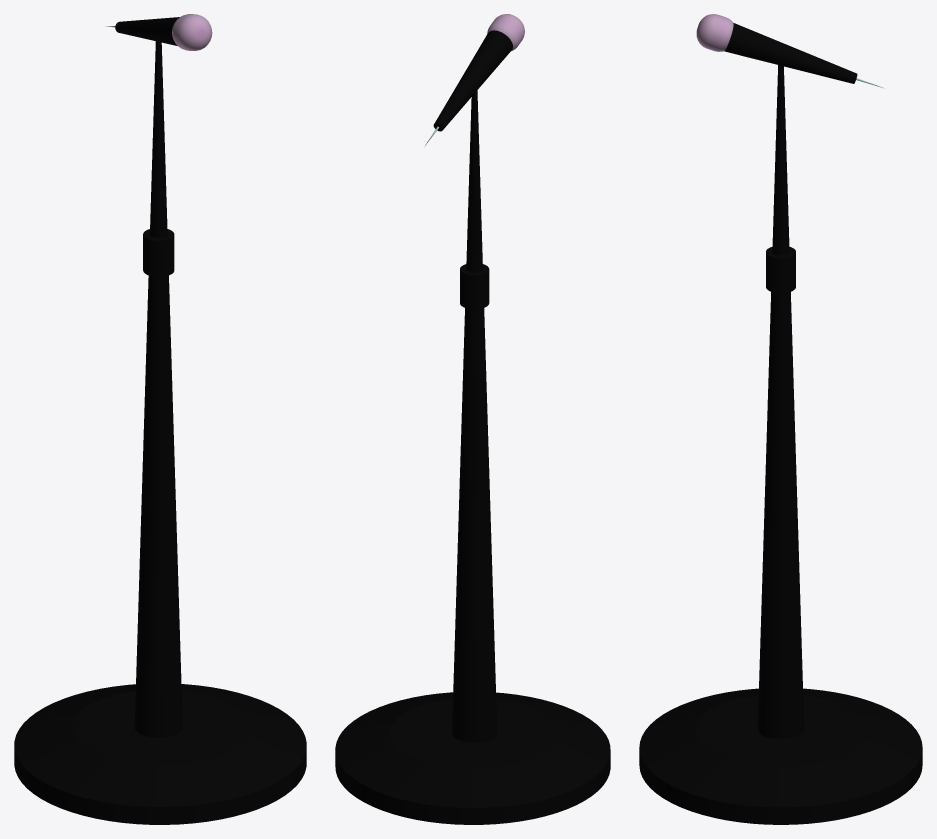
The picture shows the model from 3 angles, left to right: view 1: azimuth 30°, elevation 25°; view 2: azimuth 150°, elevation 25°; view 3: azimuth 270°, elevation 25°; orthographic projection. The views are drawn at different scales.
Parts seen in each view (by area): view 1: base, shaft, head, body; view 2: base, shaft, body, head; view 3: base, shaft, body, head.
Boxes of the visible parts, bbox=[...] form: base: bbox=[14, 684, 306, 824]; shaft: bbox=[134, 41, 182, 737]; head: bbox=[172, 14, 212, 50]; body: bbox=[115, 17, 179, 45]; base: bbox=[335, 692, 610, 824]; shaft: bbox=[452, 90, 497, 742]; body: bbox=[433, 30, 512, 131]; head: bbox=[487, 14, 524, 51]; base: bbox=[639, 688, 922, 824]; shaft: bbox=[757, 65, 804, 739]; body: bbox=[724, 23, 857, 83]; head: bbox=[696, 14, 733, 51].
Bounding box in the file's own units: 0.1027 × 0.2995 × 0.1027.
